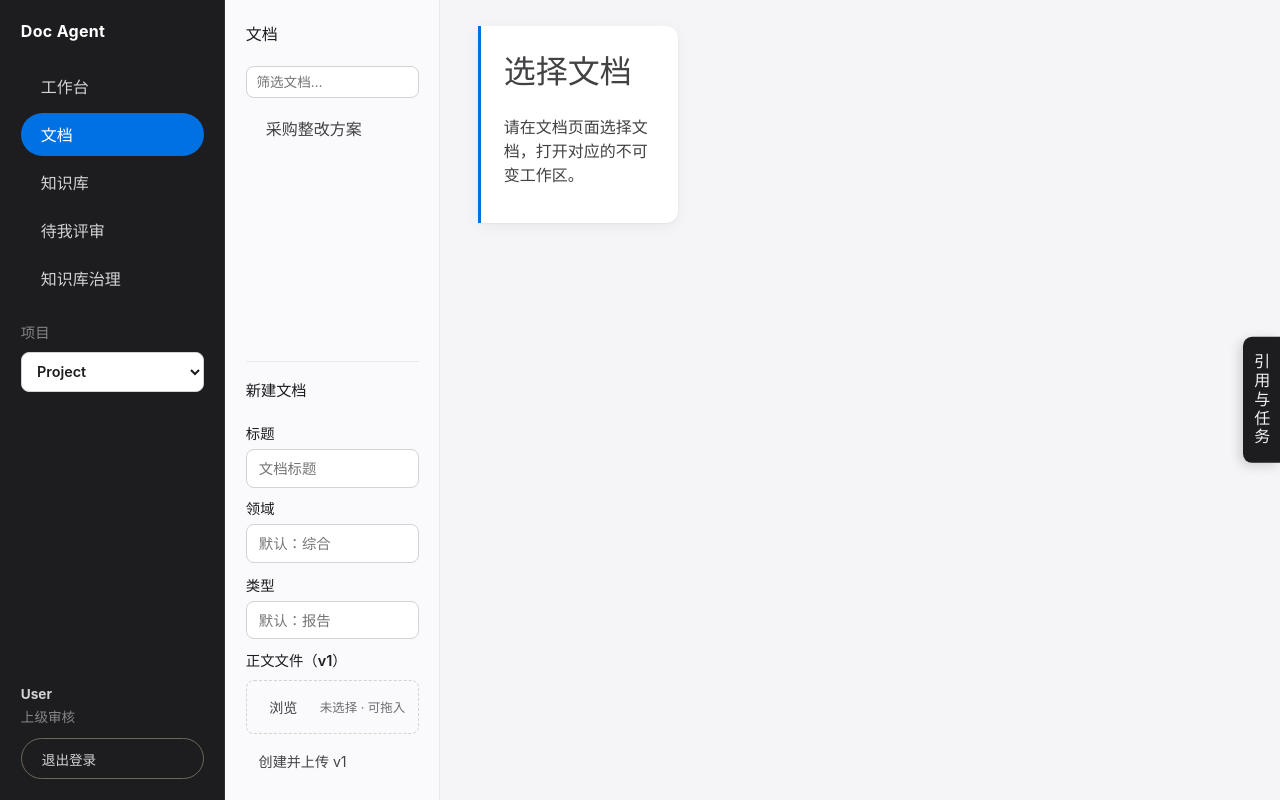
Test: document and review workspace boundaries › shows only actionable assigned tasks and claimable submitted tasks
The width and height of the screenshot is (1280, 800).
Click the button "采购整改方案" at x=332, y=128, box [246,106,419,150]
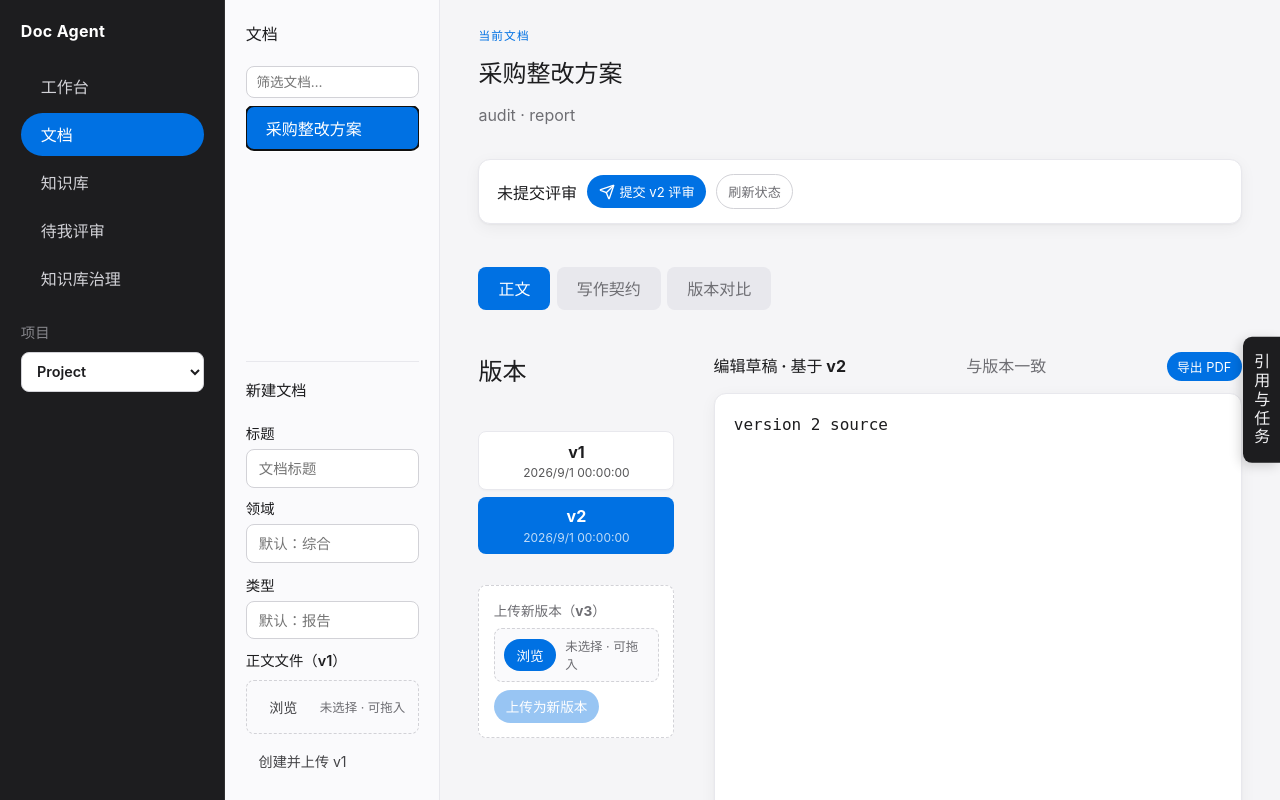
Click the button "待我评审" at x=112, y=230, box [21,209,204,252]
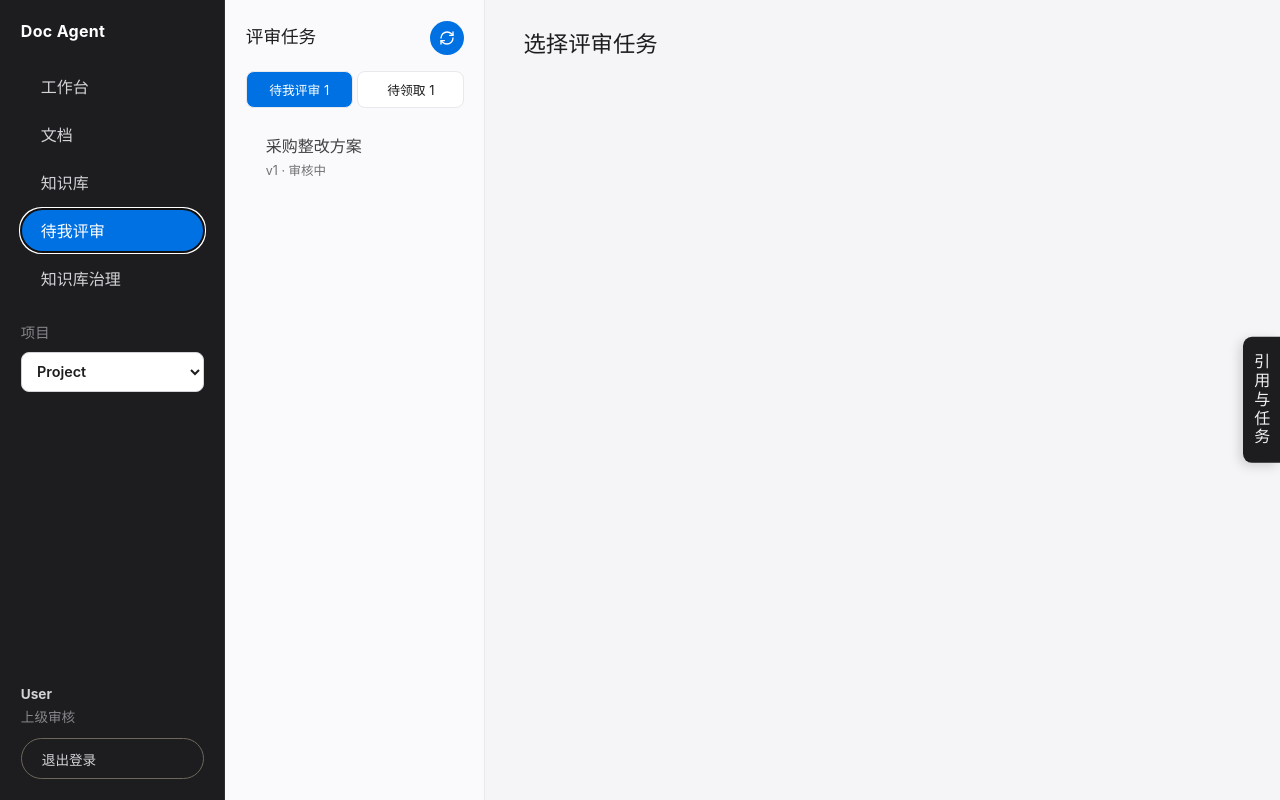
Result: the tab "待我评审 1" is shown at [246,71,353,108]
Click the tab "待领取 1" at x=411, y=89, box [357,71,464,108]
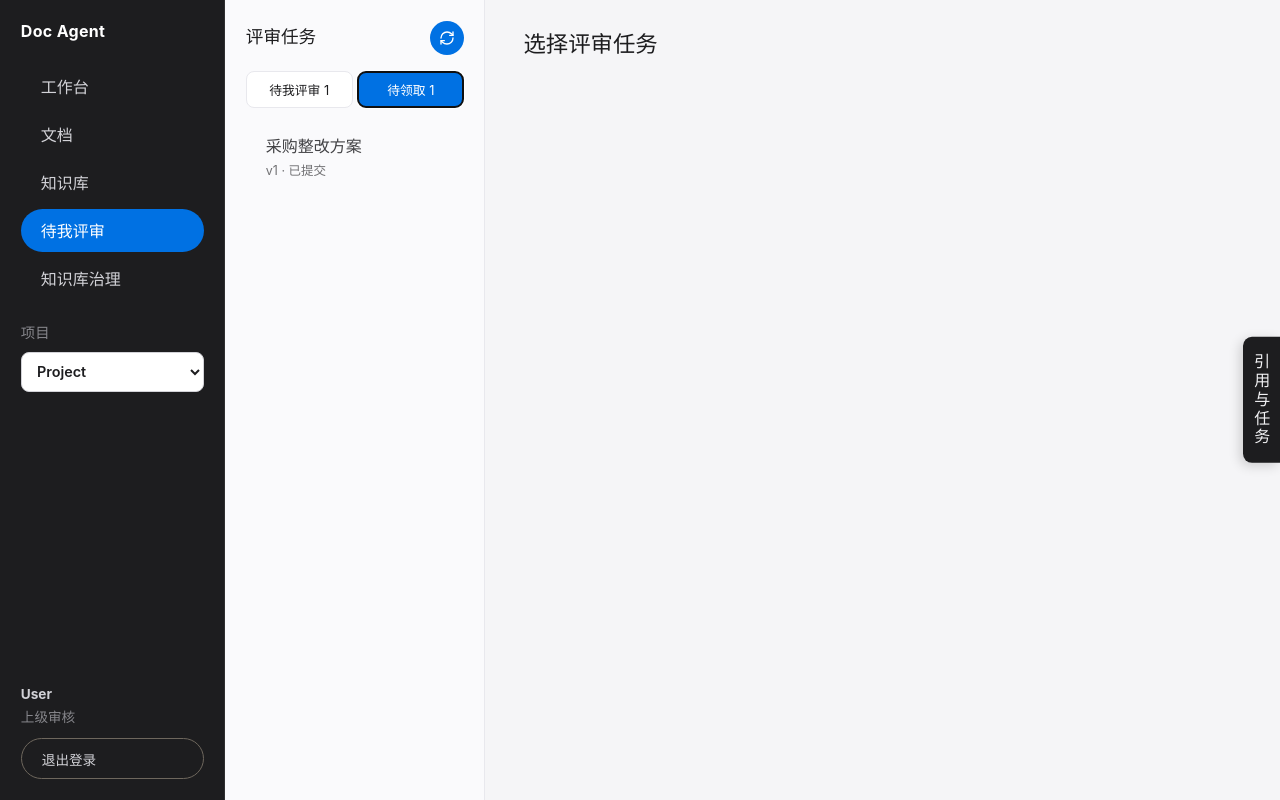
Click the button "采购整改方案 v1 · 已提交" at x=355, y=156, box [246,124,464,189]
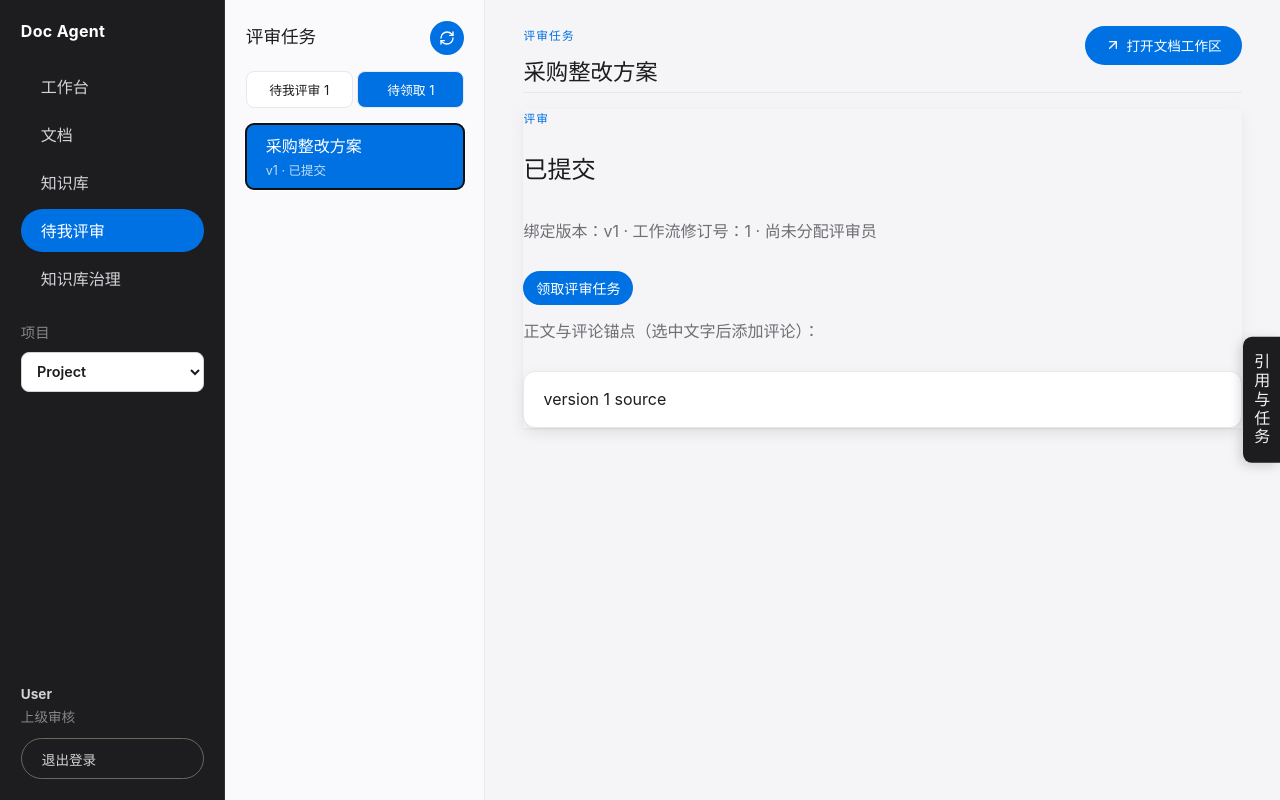
Result: the button "领取评审任务" is shown at [523,271,634,305]
